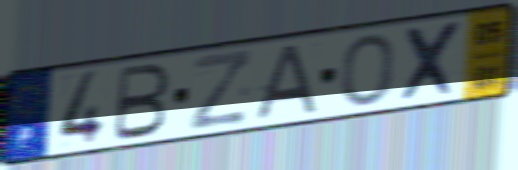4: (54, 66, 107, 150)
A: (248, 41, 322, 123)
B: (110, 61, 173, 144)
O: (340, 32, 396, 108)
X: (398, 17, 467, 105)
Z: (187, 47, 255, 135)
